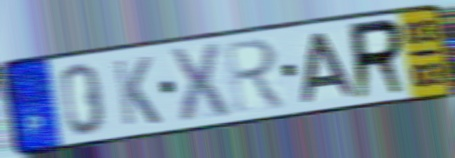0: (59, 60, 106, 139)
A: (299, 31, 360, 105)
K: (111, 54, 164, 129)
R: (221, 36, 290, 116), (348, 16, 410, 104)
X: (167, 41, 233, 127)
